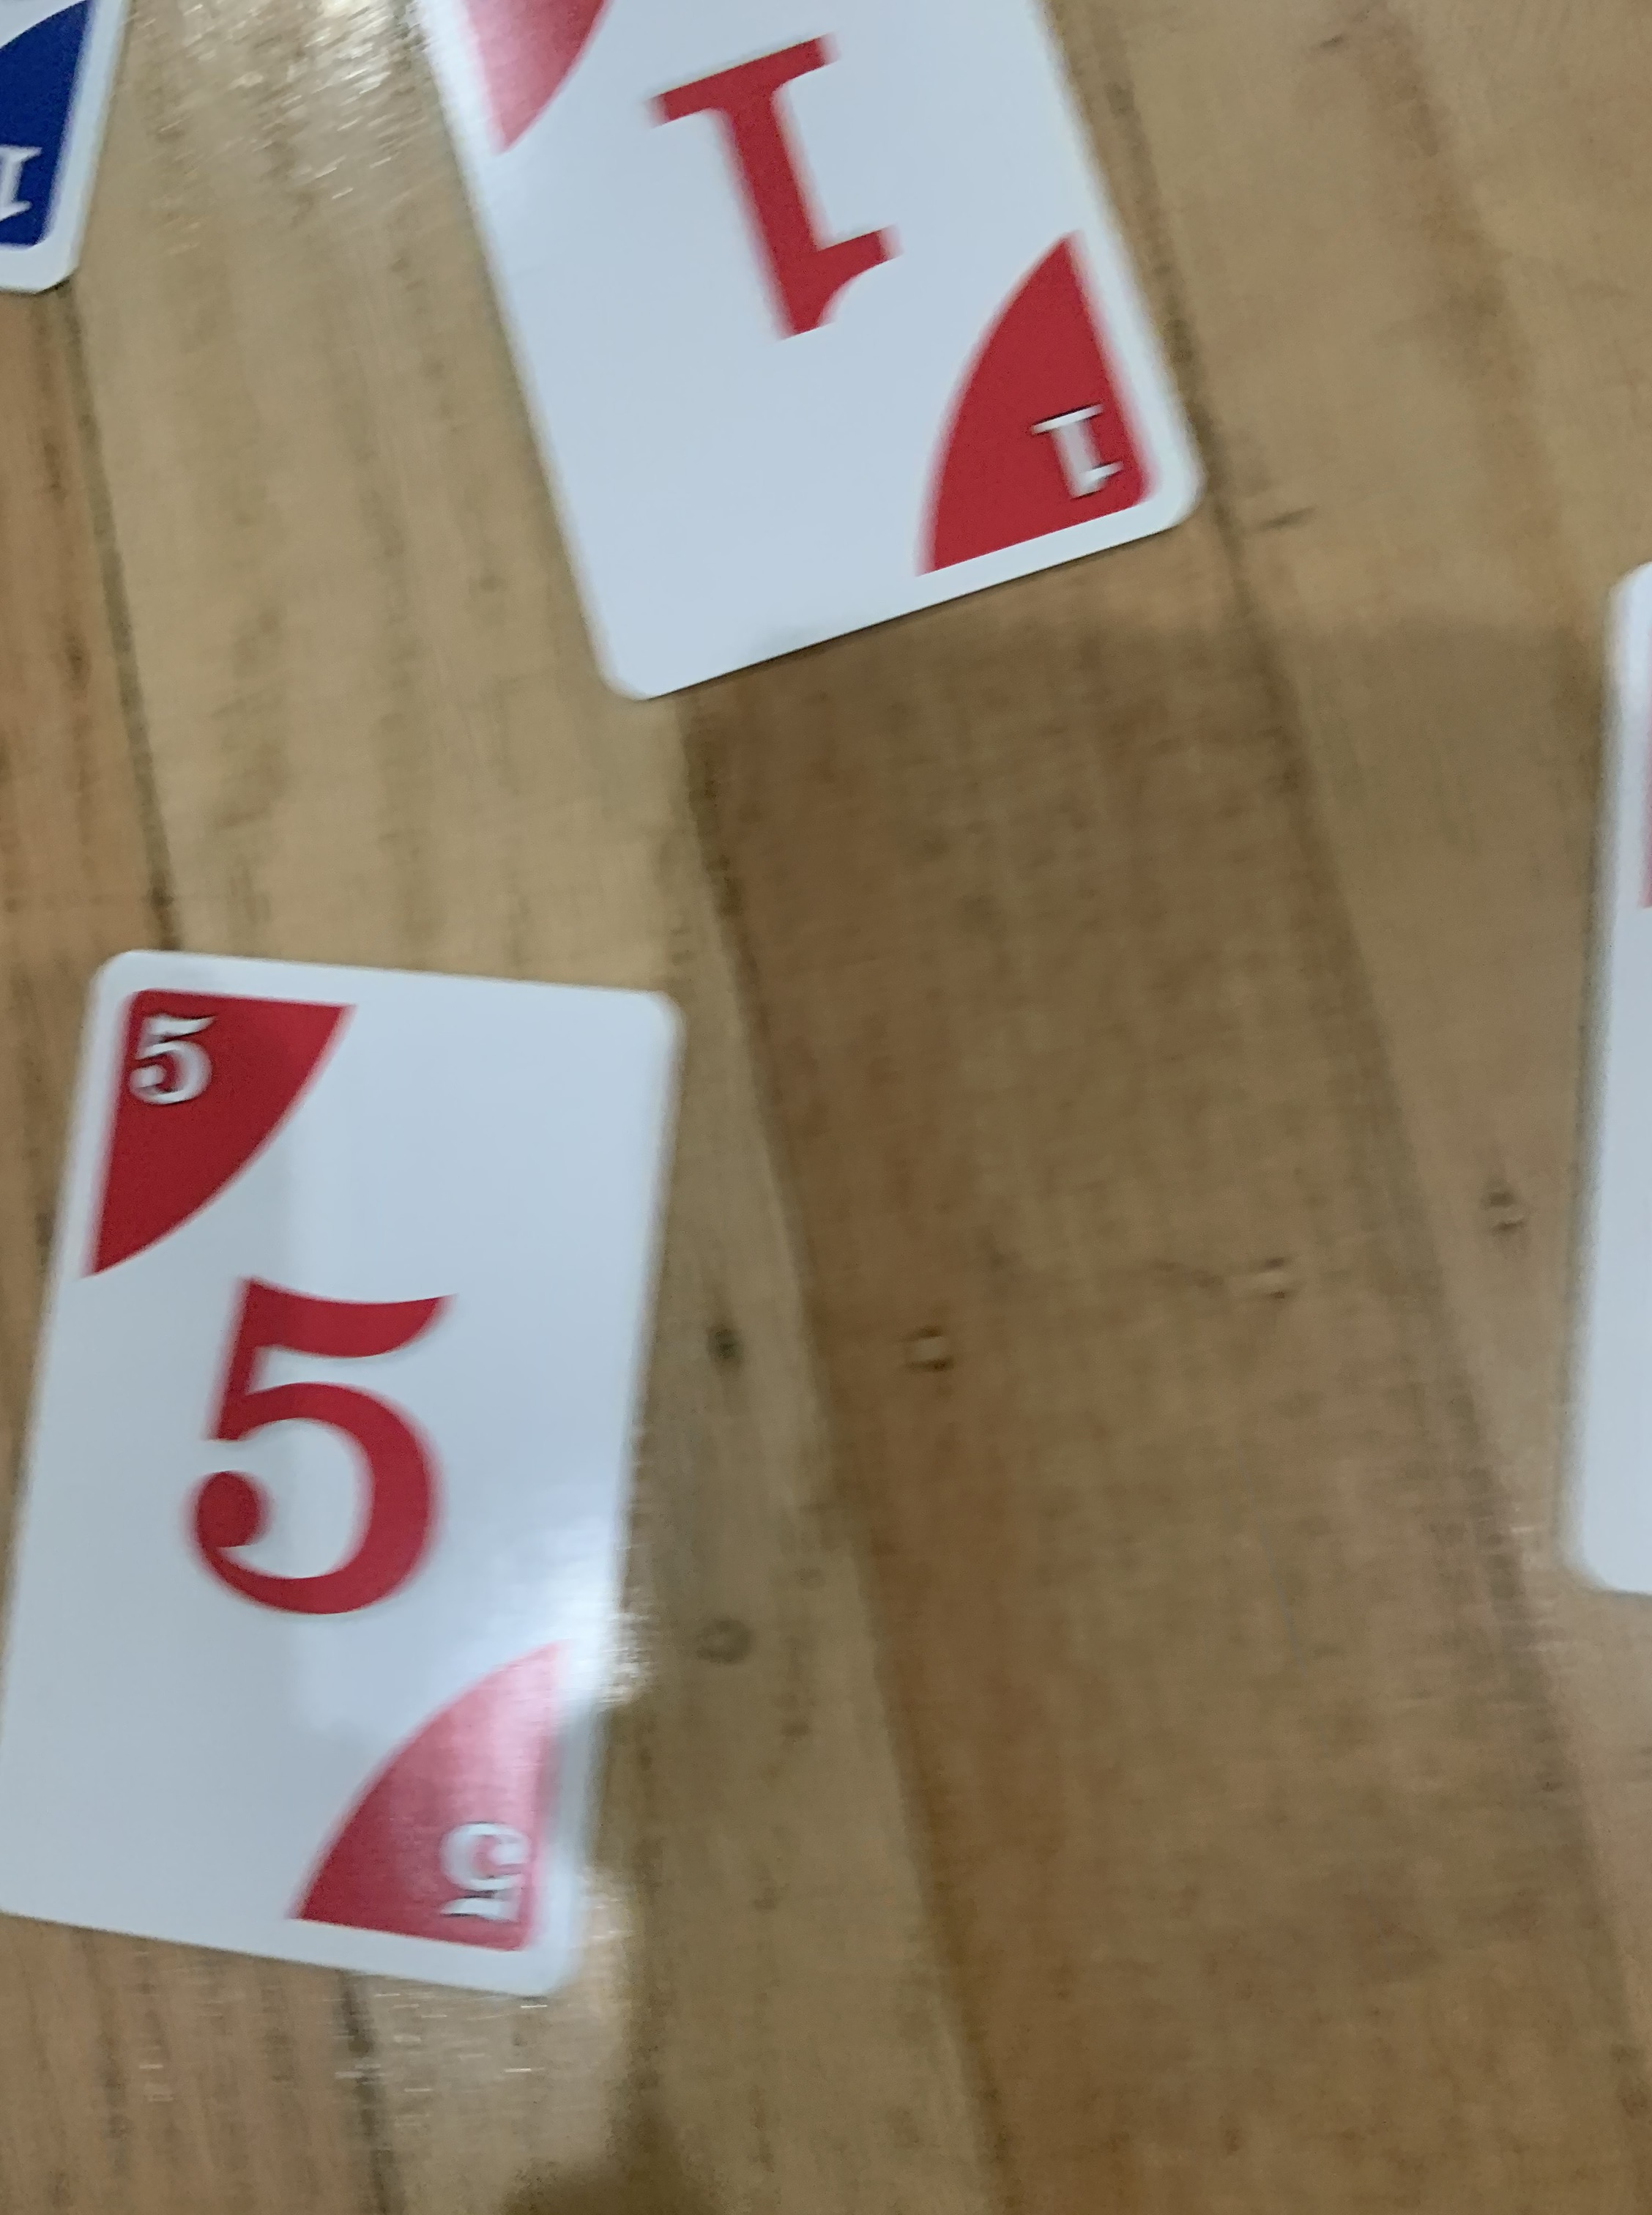five: (5, 939, 694, 2003)
